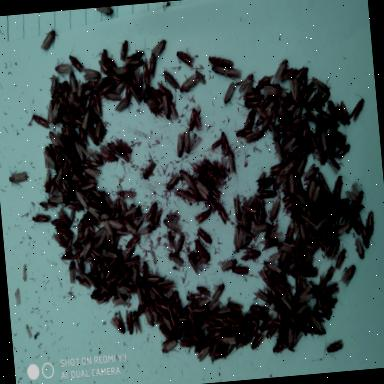pbw: (206, 60, 243, 84), (234, 68, 260, 101), (202, 48, 239, 71), (38, 19, 62, 52), (216, 77, 240, 110), (92, 142, 122, 168), (180, 128, 206, 158), (187, 172, 212, 203), (318, 125, 350, 149), (5, 164, 32, 192), (270, 54, 292, 88), (49, 76, 73, 107), (318, 275, 345, 302), (172, 45, 200, 71), (93, 42, 114, 76), (68, 180, 91, 211), (106, 306, 128, 338), (108, 131, 134, 158), (308, 68, 333, 96), (236, 242, 264, 267), (184, 302, 203, 338), (85, 139, 107, 170), (293, 282, 319, 308), (276, 158, 302, 184), (290, 298, 316, 324), (26, 106, 52, 132), (157, 66, 182, 93), (152, 316, 176, 344), (206, 338, 230, 366), (354, 216, 372, 252), (136, 58, 154, 94), (42, 142, 61, 176), (350, 185, 369, 219), (267, 280, 286, 314), (191, 236, 214, 264), (348, 90, 368, 122), (43, 98, 64, 128), (127, 64, 146, 97), (258, 254, 284, 278), (51, 56, 77, 80), (248, 282, 272, 308), (64, 48, 88, 74), (122, 42, 150, 64), (47, 225, 69, 253), (328, 172, 350, 200), (116, 241, 138, 269), (138, 156, 160, 184), (100, 220, 118, 254), (284, 319, 301, 355), (88, 88, 106, 122), (286, 202, 304, 236), (230, 221, 247, 257), (119, 306, 138, 338), (234, 327, 258, 352), (53, 248, 83, 268), (306, 310, 329, 336), (302, 174, 320, 207), (350, 230, 368, 263), (245, 219, 276, 238), (239, 104, 260, 132), (53, 127, 73, 156), (98, 186, 118, 215), (143, 48, 160, 82), (315, 106, 339, 130), (308, 274, 324, 310), (338, 260, 362, 284), (321, 236, 345, 260), (178, 72, 202, 96), (244, 306, 268, 330), (289, 184, 311, 210), (340, 180, 362, 206), (265, 196, 284, 226), (63, 88, 82, 118), (212, 198, 231, 228), (315, 166, 334, 196), (74, 235, 95, 262), (254, 186, 282, 206), (194, 278, 222, 298), (80, 264, 100, 292), (103, 212, 127, 235), (253, 171, 277, 194), (252, 70, 276, 93), (304, 89, 326, 114), (112, 89, 134, 114), (181, 286, 206, 308), (243, 125, 269, 146), (286, 73, 302, 107), (362, 208, 378, 242), (172, 130, 189, 162), (315, 126, 332, 158), (318, 294, 336, 324), (80, 120, 98, 150), (292, 152, 310, 182), (23, 209, 53, 227), (332, 243, 352, 270), (208, 280, 230, 304), (110, 280, 134, 302), (164, 247, 186, 271), (195, 338, 217, 362), (94, 242, 118, 264), (288, 62, 312, 84), (276, 135, 300, 157), (82, 200, 103, 225), (56, 177, 74, 206), (140, 303, 158, 332), (296, 261, 322, 281), (214, 328, 240, 348), (107, 62, 134, 81), (228, 192, 244, 224), (111, 244, 127, 276), (217, 128, 234, 158), (279, 255, 309, 272), (160, 170, 182, 193), (192, 205, 214, 228), (261, 318, 284, 340), (160, 215, 182, 238), (185, 104, 203, 132), (45, 70, 63, 98), (71, 76, 89, 104), (335, 98, 353, 126), (76, 64, 104, 82), (256, 236, 284, 254), (270, 273, 294, 294), (101, 257, 122, 281), (323, 150, 344, 174), (100, 86, 125, 106), (322, 260, 342, 285), (196, 224, 216, 249), (42, 189, 67, 209), (304, 124, 320, 155), (41, 164, 57, 195), (158, 92, 174, 123), (258, 81, 284, 100), (349, 205, 363, 240), (184, 251, 202, 278), (114, 35, 132, 62), (271, 82, 293, 104), (272, 100, 295, 121), (247, 327, 268, 350), (148, 37, 168, 61), (35, 195, 59, 215), (114, 182, 138, 202), (228, 260, 252, 280), (147, 204, 167, 228), (276, 239, 300, 259), (88, 73, 112, 93), (218, 254, 242, 274), (306, 194, 322, 224), (122, 54, 146, 74), (71, 244, 87, 274), (270, 132, 286, 162), (255, 266, 275, 290), (174, 334, 198, 354), (125, 262, 142, 290), (330, 219, 355, 238), (142, 197, 160, 223), (264, 116, 282, 142), (142, 280, 160, 306), (316, 220, 332, 249), (86, 244, 108, 265), (140, 93, 162, 114), (119, 214, 139, 237), (154, 79, 174, 102), (171, 232, 188, 259), (278, 64, 302, 83), (118, 202, 142, 221), (158, 336, 182, 355), (264, 162, 288, 181), (46, 129, 65, 153), (234, 207, 252, 232), (274, 322, 299, 340), (80, 218, 96, 246), (161, 226, 177, 254), (309, 182, 325, 210), (284, 168, 300, 196), (66, 260, 82, 288), (48, 216, 74, 233), (73, 216, 90, 242), (302, 162, 322, 184), (76, 178, 98, 198), (87, 222, 109, 242), (336, 140, 356, 162), (104, 56, 124, 78), (110, 192, 128, 216), (242, 92, 266, 110), (238, 192, 256, 216), (277, 126, 302, 143), (224, 146, 238, 176), (260, 97, 280, 118), (166, 302, 180, 332), (223, 320, 249, 336), (56, 158, 72, 184), (254, 100, 272, 123), (232, 122, 256, 139), (112, 76, 132, 96), (202, 191, 218, 216), (72, 273, 93, 292), (150, 297, 172, 315), (66, 69, 80, 97), (139, 258, 153, 286), (192, 66, 208, 90), (154, 275, 178, 291), (295, 221, 310, 246), (289, 98, 305, 121), (204, 320, 230, 334), (93, 6, 119, 20), (123, 231, 142, 250), (271, 336, 289, 356), (295, 92, 313, 112), (258, 315, 278, 333), (288, 113, 312, 128), (188, 302, 210, 318), (224, 301, 246, 317), (80, 108, 94, 133), (318, 85, 334, 106), (209, 302, 233, 316), (162, 208, 182, 224), (300, 248, 316, 268), (130, 310, 142, 336), (134, 222, 156, 236), (78, 88, 94, 106), (68, 203, 80, 227), (207, 137, 225, 152), (88, 186, 104, 202), (316, 214, 332, 230), (136, 298, 150, 316)
